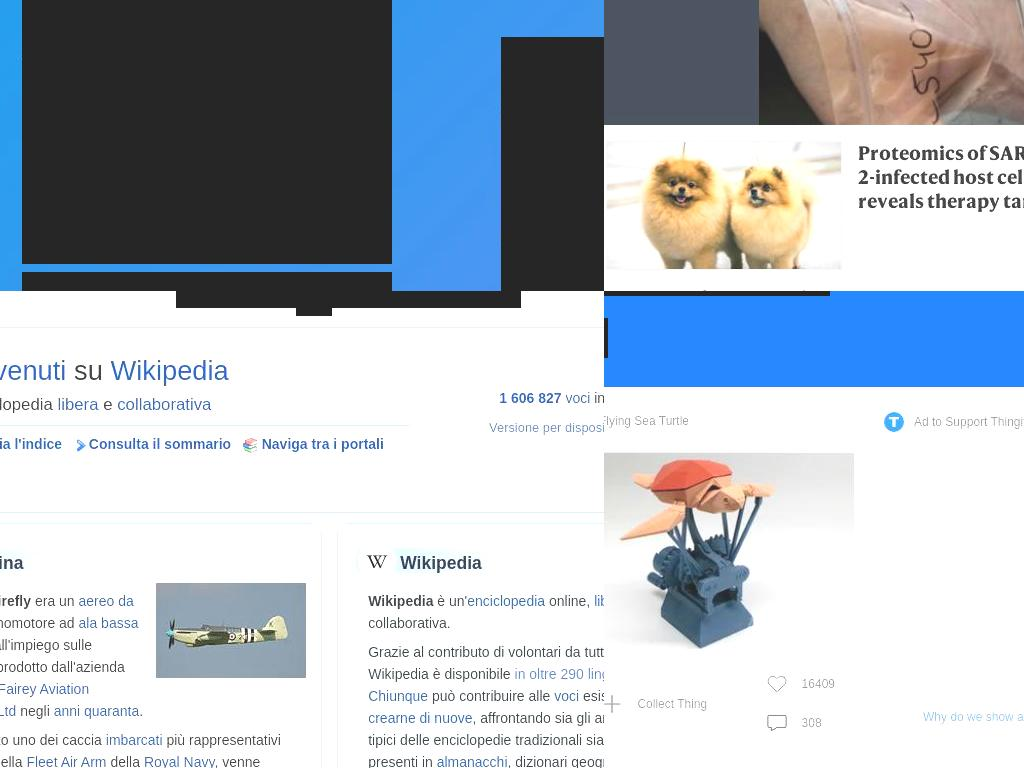button: (604, 440, 854, 665), (604, 665, 708, 742), (604, 362, 854, 392), (874, 362, 1024, 392), (766, 674, 835, 694), (766, 713, 822, 733)
heading: (604, 0, 1024, 291), (22, 0, 392, 264), (858, 141, 1024, 212)
iframe: (874, 442, 1024, 692)
image: (604, 440, 854, 665), (758, 0, 1024, 125), (606, 140, 840, 269), (156, 582, 307, 678), (353, 547, 604, 573), (0, 547, 168, 573), (358, 541, 397, 580), (296, 291, 332, 316), (766, 674, 787, 694), (766, 713, 787, 733), (604, 693, 623, 714), (73, 437, 89, 453), (242, 437, 258, 453), (889, 417, 899, 427)
link: (0, 435, 384, 474), (0, 592, 133, 631), (110, 354, 230, 386), (0, 680, 89, 719), (88, 435, 231, 452), (0, 354, 66, 386), (117, 394, 212, 414), (489, 420, 604, 436), (368, 709, 474, 726), (514, 665, 604, 682), (53, 702, 139, 719), (467, 592, 546, 609), (26, 753, 108, 768), (499, 390, 563, 407), (436, 753, 508, 768), (143, 753, 214, 768), (0, 435, 62, 452), (368, 687, 429, 704), (78, 614, 138, 631), (105, 731, 163, 748), (57, 394, 99, 414), (565, 390, 591, 407), (554, 687, 580, 704), (594, 592, 604, 609)
text: (368, 709, 604, 768), (0, 731, 280, 768), (368, 592, 604, 631), (368, 643, 604, 682), (176, 291, 521, 308), (637, 665, 708, 742), (604, 366, 826, 388), (0, 753, 261, 768), (368, 753, 604, 768), (393, 545, 489, 580), (604, 413, 799, 429), (884, 366, 1024, 388), (914, 411, 1024, 433), (428, 687, 555, 704), (0, 658, 126, 675), (0, 731, 106, 748), (923, 709, 1024, 725), (0, 636, 92, 653), (66, 354, 111, 386), (0, 614, 79, 631), (0, 394, 58, 414), (368, 592, 434, 609), (0, 545, 31, 580), (545, 592, 595, 609), (31, 592, 80, 609), (801, 674, 835, 694), (16, 702, 55, 719), (433, 592, 468, 609), (106, 753, 144, 768), (0, 592, 31, 609), (579, 687, 604, 704), (801, 713, 822, 733), (98, 394, 117, 414), (590, 390, 604, 407), (139, 702, 144, 719)
